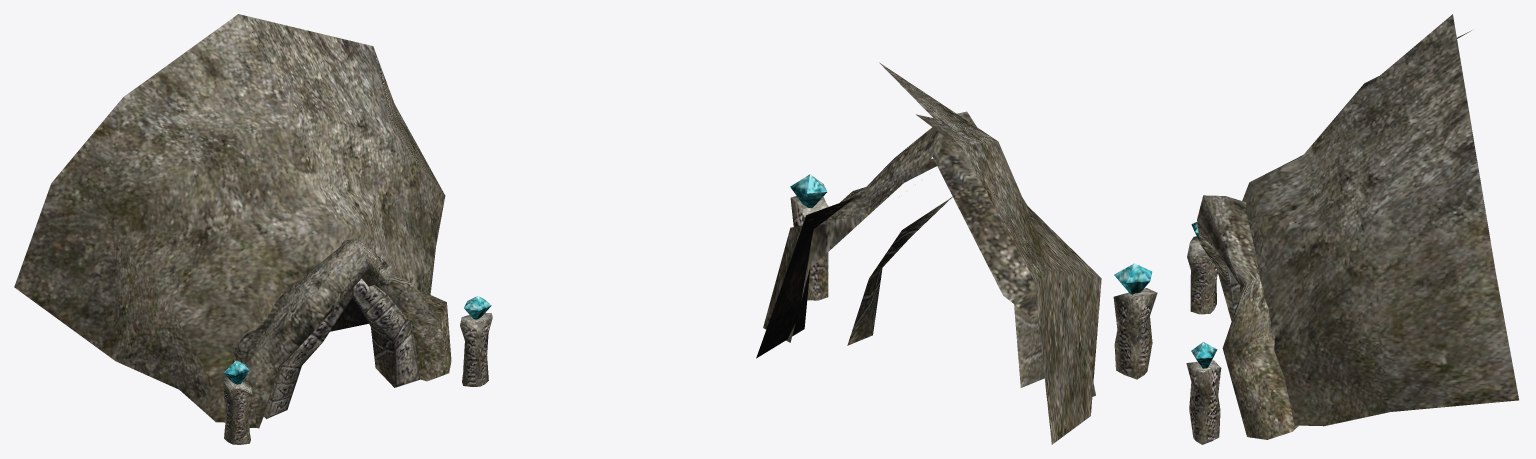
The model's file is warpgate01.glb.
The picture shows the model from 3 angles, left to right: view 1: azimuth 30°, elevation 25°; view 2: azimuth 150°, elevation 25°; view 3: azimuth 270°, elevation 25°; orthographic projection. The views are drawn at different scales.
Parts seen in each view (by area): view 1: warpgate01-01, warpgate01-02; view 2: warpgate01-02, warpgate01-01; view 3: warpgate01-01, warpgate01-02.
Boxes of the visible parts, bbox=[...] form: warpgate01-01: bbox=[14, 14, 445, 422]; warpgate01-02: bbox=[223, 238, 492, 444]; warpgate01-02: bbox=[763, 111, 1157, 387]; warpgate01-01: bbox=[756, 62, 1101, 444]; warpgate01-01: bbox=[1242, 14, 1518, 426]; warpgate01-02: bbox=[1186, 195, 1298, 444].
Size of the model in its own units: 21.64 by 17.06 by 14.32.
Materials: 2 (2 with a texture image).
